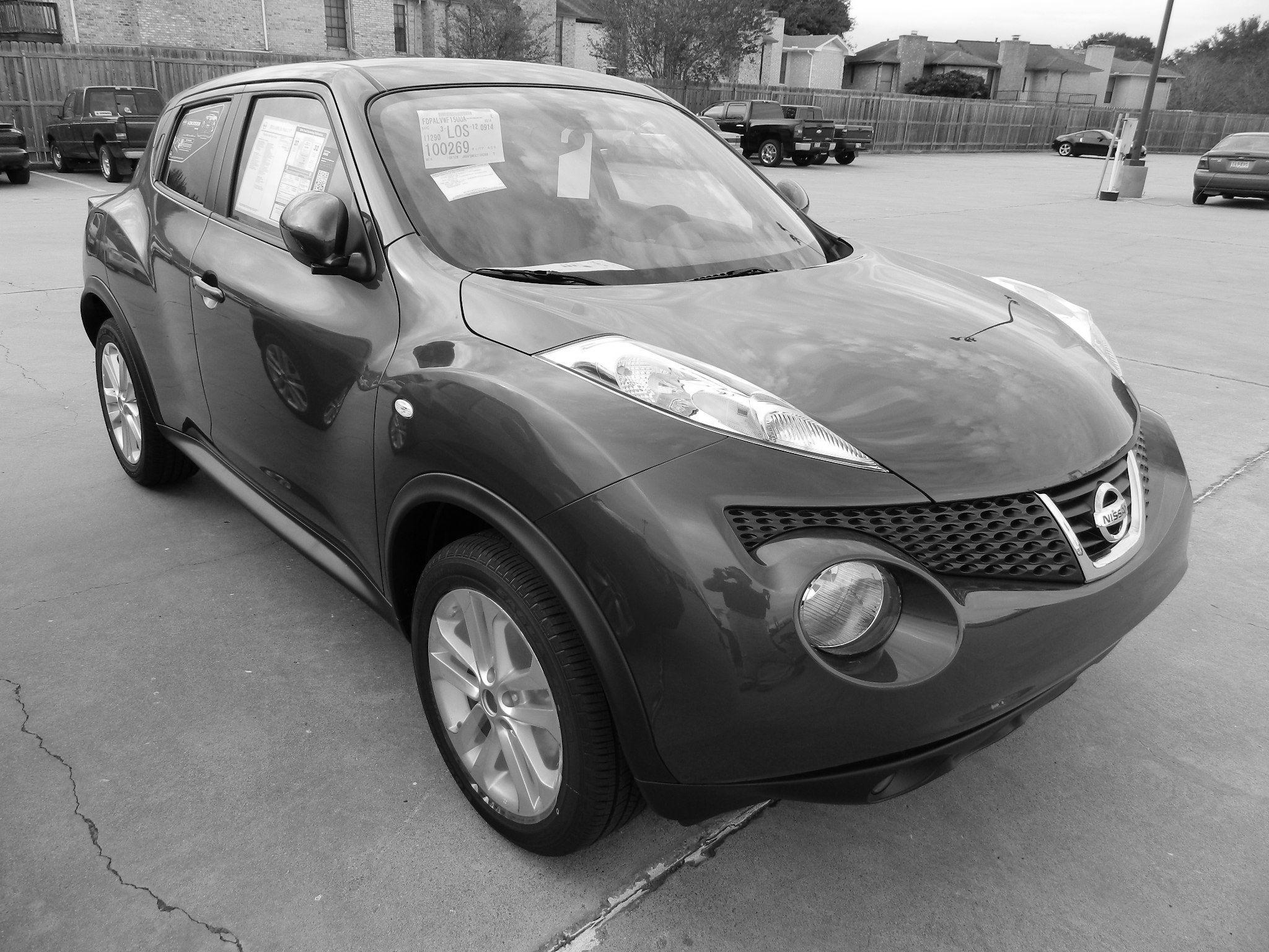car: (79, 51, 1210, 865)
